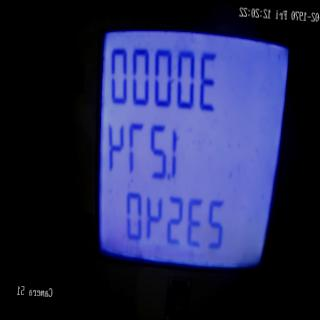screen: (81, 8, 298, 282)
